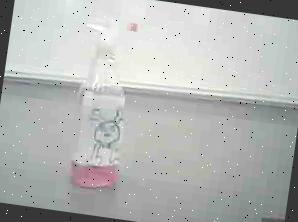hazard: (51, 8, 160, 202)
